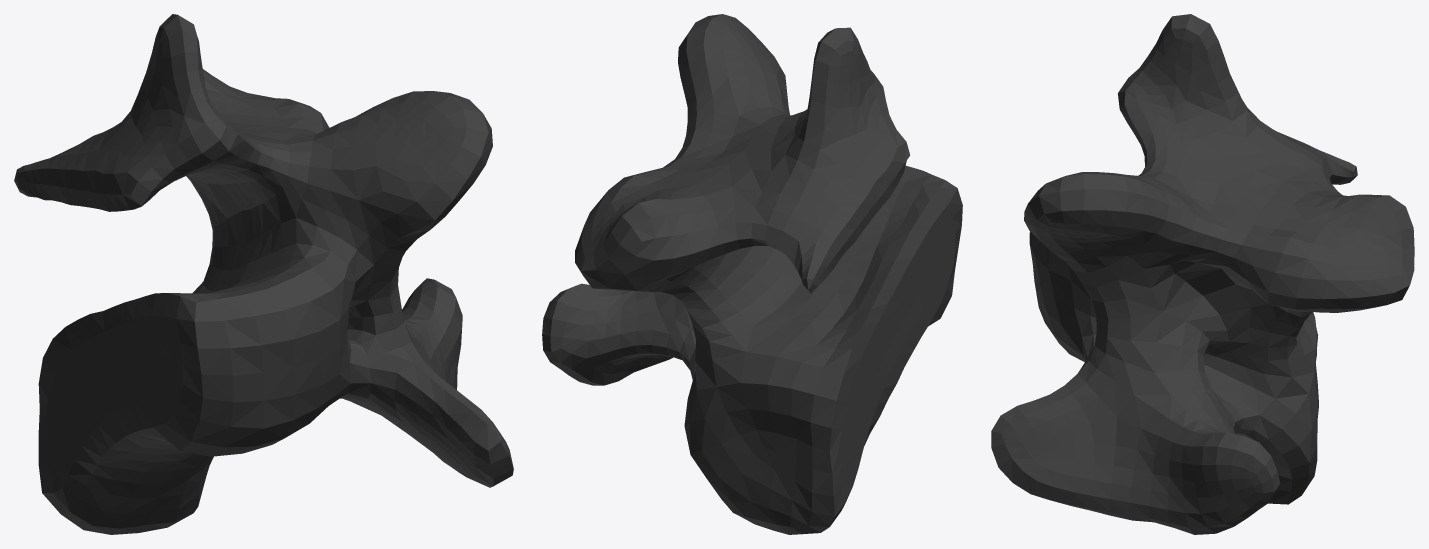
The picture shows the model from 3 angles, left to right: view 1: azimuth 30°, elevation 25°; view 2: azimuth 150°, elevation 25°; view 3: azimuth 270°, elevation 25°; orthographic projection. The views are drawn at different scales.
Parts seen in each view (by area): view 1: C5; view 2: C5; view 3: C5.
Boxes of the visible parts, x1=… form: C5: x1=14, y1=14, x2=513, y2=534; C5: x1=542, y1=14, x2=962, y2=534; C5: x1=991, y1=14, x2=1414, y2=534.
Size of the model in its own units: 0.00815 by 0.0116 by 0.00941.
1 material, 1 textured.
